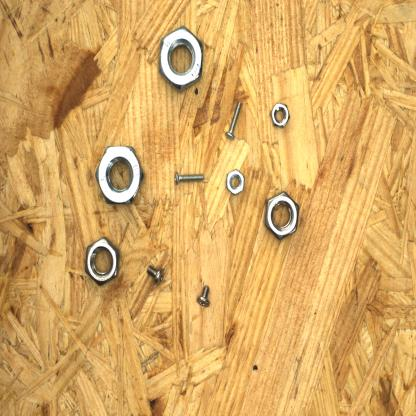screw: (224, 99, 244, 142), (193, 282, 214, 312), (172, 168, 207, 186), (143, 263, 167, 287)
